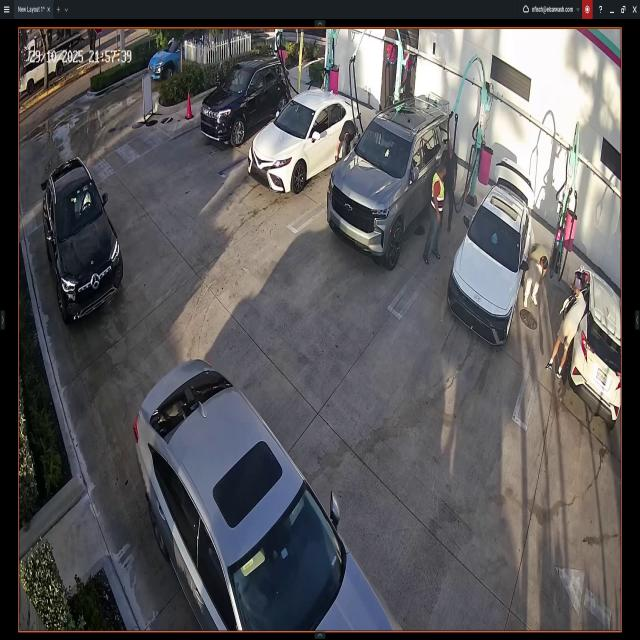Car: (131, 354, 402, 633), (328, 92, 445, 264), (447, 161, 534, 342), (35, 157, 123, 321), (249, 87, 361, 189), (562, 256, 620, 425), (193, 52, 288, 142), (140, 31, 186, 80)
